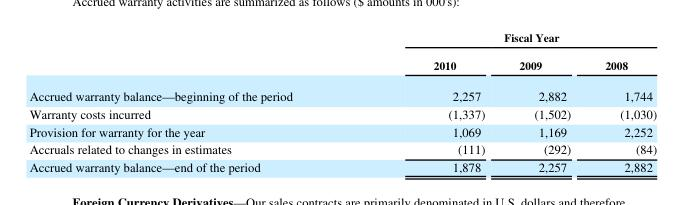table: (28, 29, 656, 174)
table column: (28, 29, 362, 174), (362, 29, 501, 174), (501, 29, 587, 174), (587, 29, 656, 174)
table column header: (28, 29, 656, 79)
table row: (28, 50, 656, 79), (28, 79, 656, 104), (28, 29, 656, 50), (28, 121, 656, 139), (28, 139, 656, 157), (28, 104, 656, 121), (28, 157, 656, 174)
table spanning cell: (362, 29, 656, 50)
